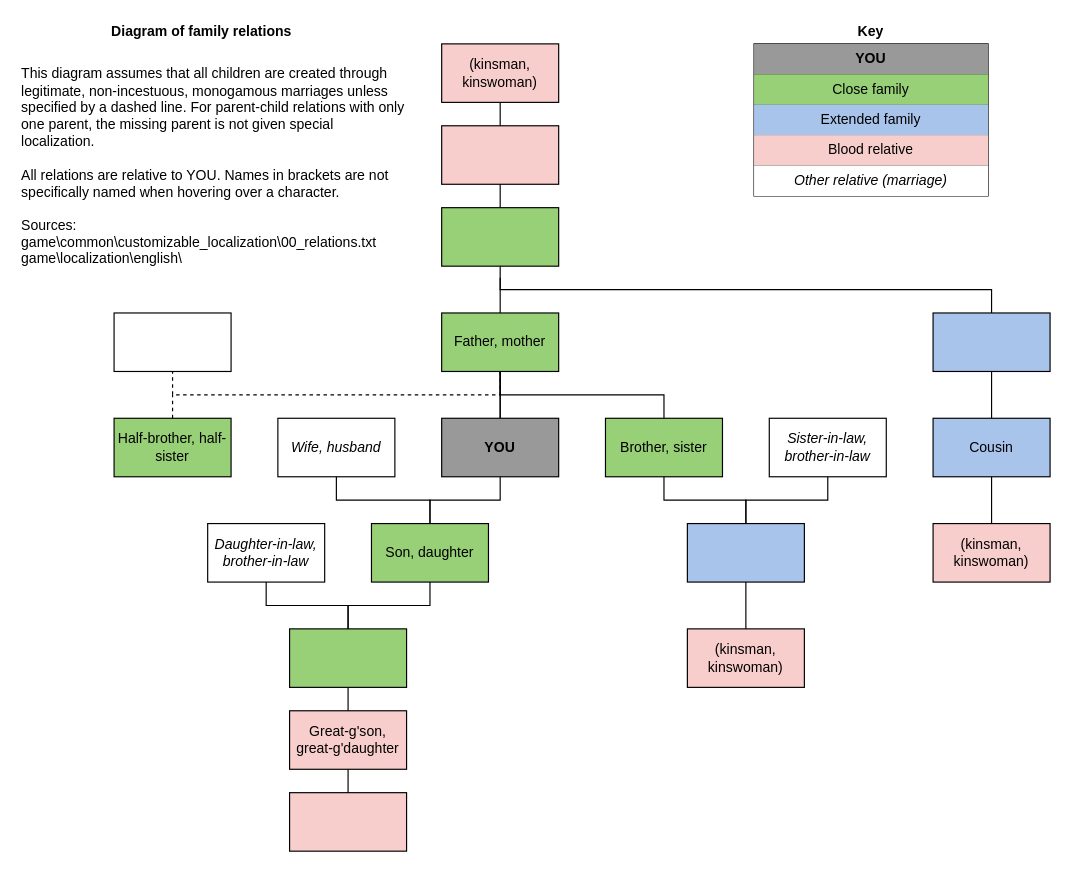
Some shapes in this 1071 by 872 pixel diagram are drawn without their labels. Here are the shapes that lost their labels. From the top down, the centre of each, then its label:
[500,154]: Great-g' father, great-g'mother
[500,236]: Grandfather, grandmother
[172,341]: (other spouse)
[991,341]: Uncle, aunt
[745,552]: Nephew, niece
[347,657]: Grandson, g'daughter
[347,821]: (kinsman , kinswoman)
